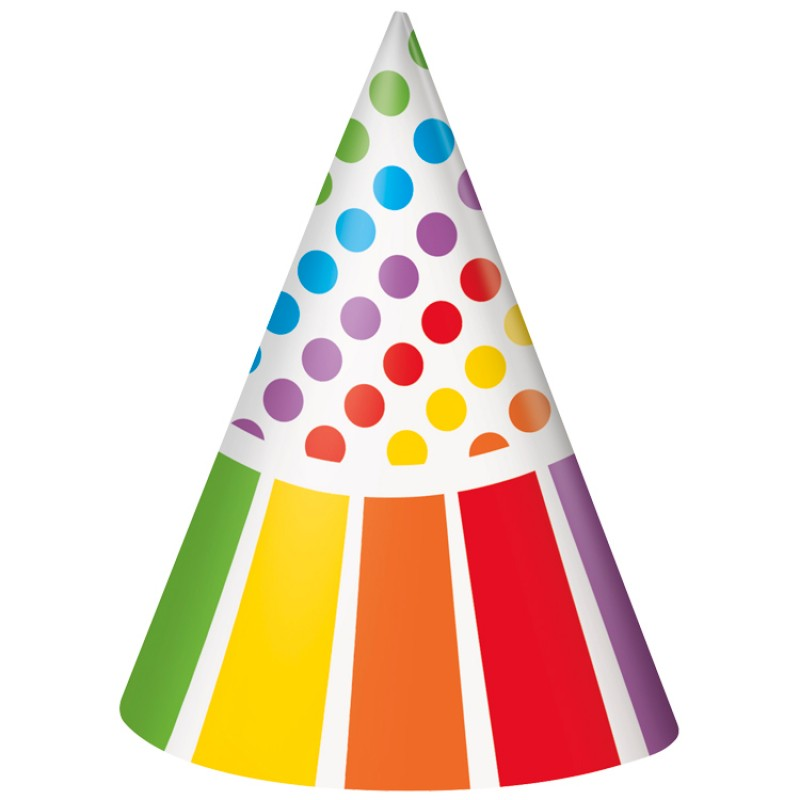cone: (120, 12, 679, 791)
